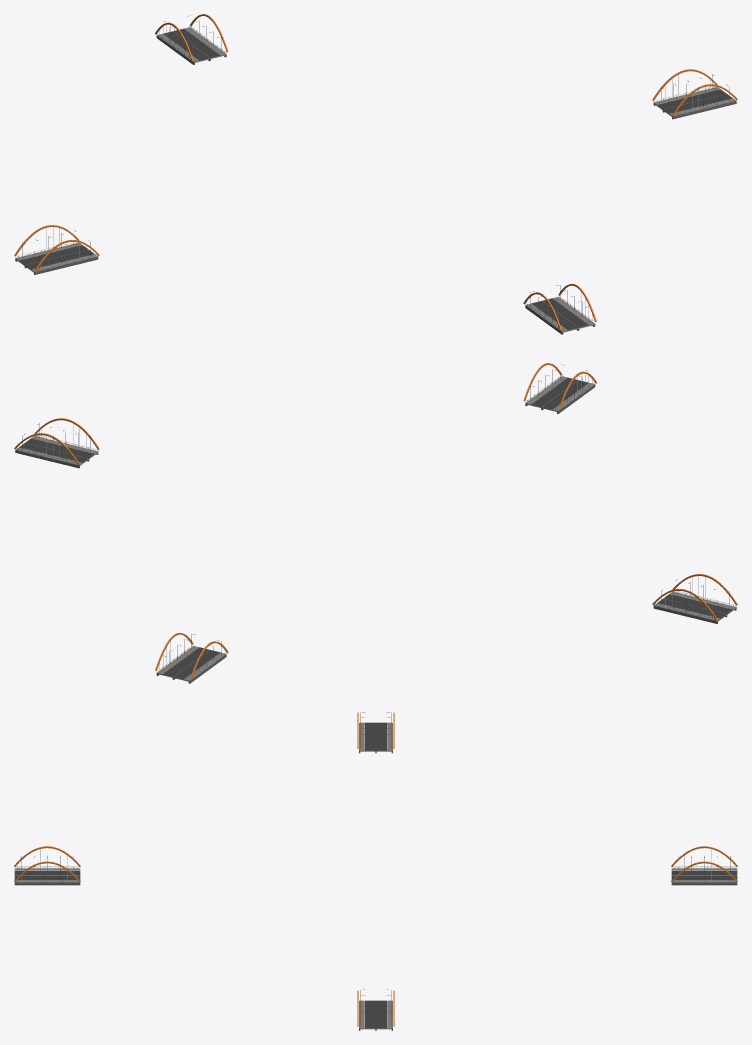
The model's file is world-links.glb.
3 renders of one model, top to bottom at view 1: azimuth 30°, elevation 25°; view 2: azimuth 150°, elevation 25°; view 3: azimuth 270°, elevation 25°, orthographic. The views are drawn at different scales.
Parts seen in each view (by area): view 1: Props, Road, Sidewalk; view 2: Props, Road, Sidewalk; view 3: Props, Road, Sidewalk.
Part boxes in pixels (<box>): Props: <box>14,14,737,334</box>; Road: <box>19,28,732,330</box>; Sidewalk: <box>16,27,735,331</box>; Props: <box>14,363,737,683</box>; Road: <box>19,377,732,679</box>; Sidewalk: <box>16,376,735,680</box>; Props: <box>14,712,737,1030</box>; Road: <box>14,722,737,1028</box>; Sidewalk: <box>14,722,737,1028</box>.
Bounding box in the file's own units: 441 × 16.15 × 441.
Materials: 5 (4 with a texture image).
